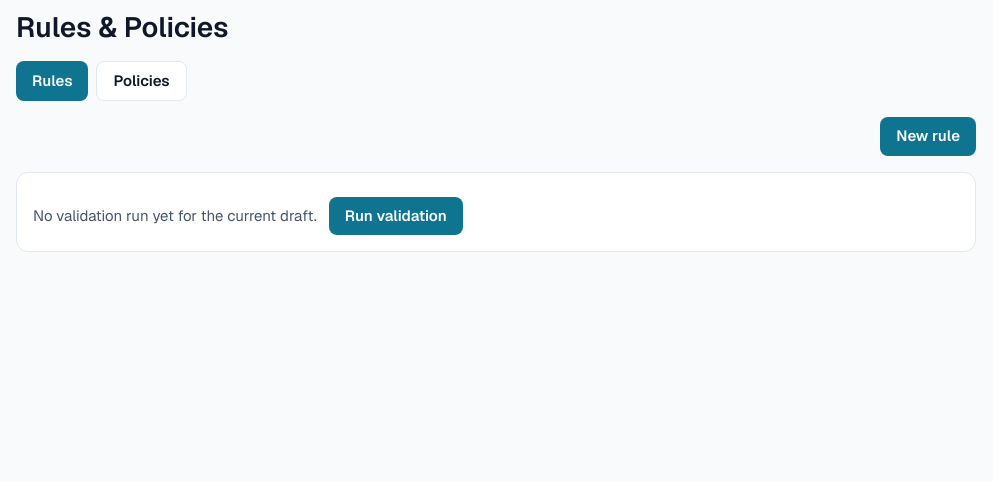
Test: CeRulesPage › renders the rule list with severities and zero-violation shapes after a run
Expected: the text "No validation run yet for the current draft." is shown, [33,205,317,227]
What coordinates should you click on to do the following:
click the button "Run validation"
I would click on:
 (396, 216)
Its box is [329,197,463,235].
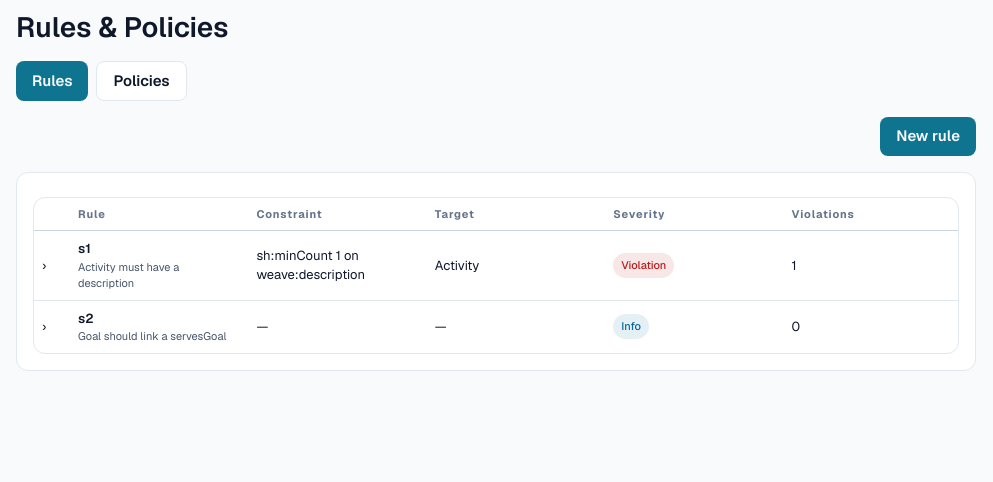
Result: the element with test id "rule-list" is shown at [33,197,959,354]
Result: the text "Violation" is shown at [613,253,674,278]
Result: the text "Info" is shown at [613,314,649,339]
What coordinates should you click on to do the following:
click the text "s1"
I would click on:
 (84, 249)
Its box is [78,240,91,257].
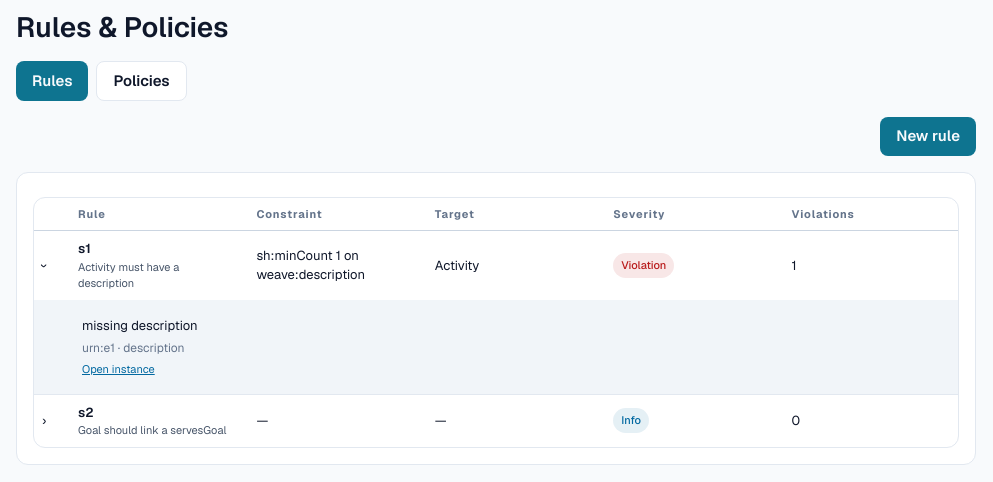
Result: the text "urn:e1" is shown at [82,340,115,356]
